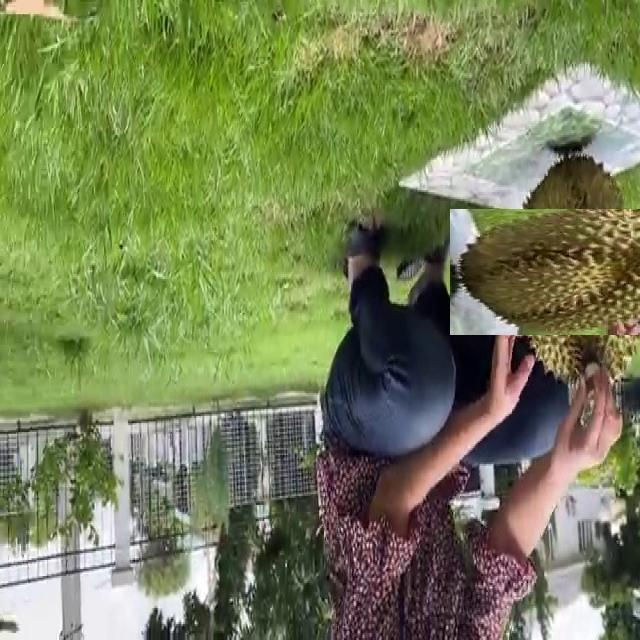durian: (480, 178, 640, 367)
